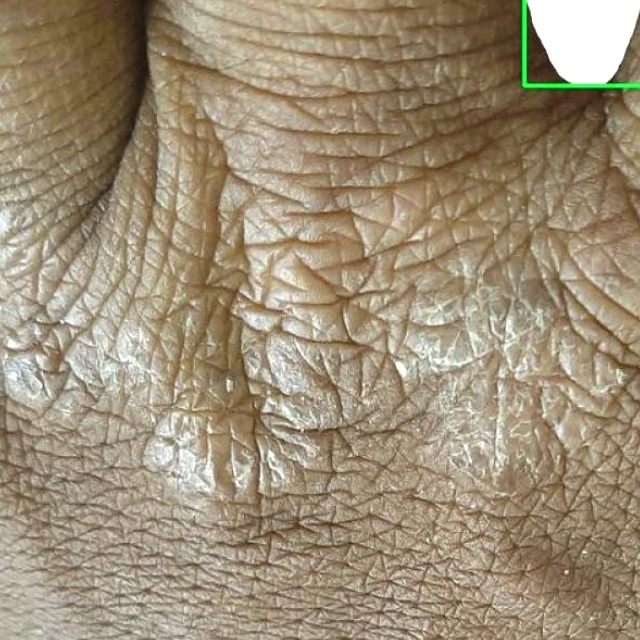Contact Dermatitis: (523, 0, 639, 85)
